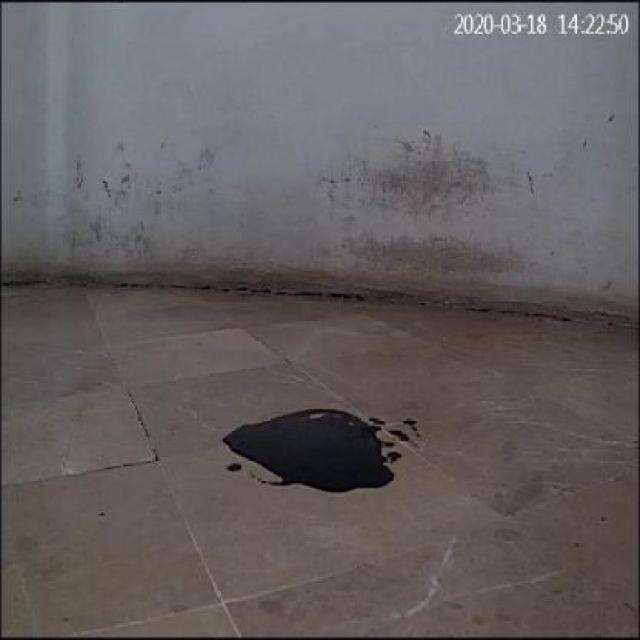spill: (222, 405, 404, 490)
